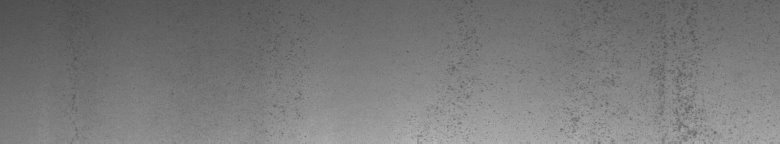ib: (556, 17, 721, 136)
